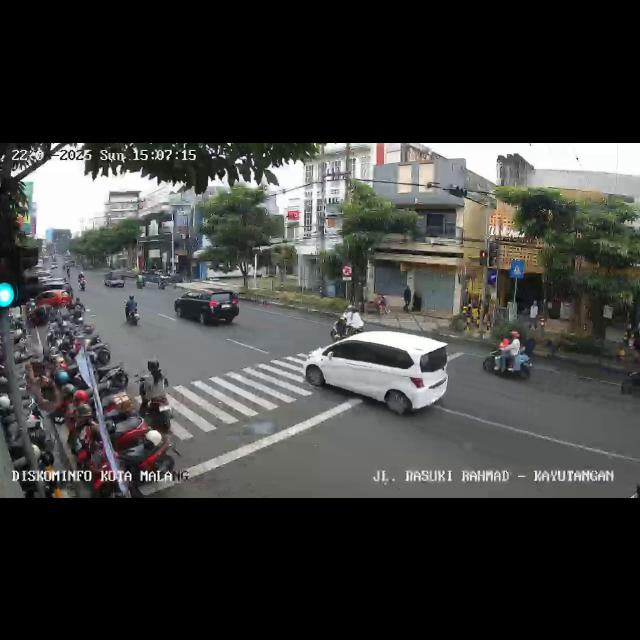car: (304, 330, 451, 420), (173, 283, 240, 327), (26, 282, 74, 321), (103, 267, 127, 289)
motorcycle: (482, 327, 534, 383), (139, 357, 169, 417), (332, 302, 366, 336), (618, 352, 640, 404), (123, 292, 141, 326), (77, 270, 86, 290)
